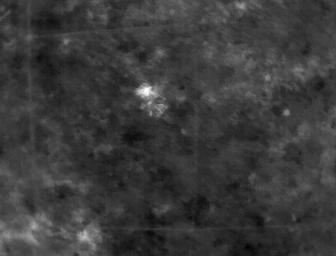landmine: (134, 83, 153, 100)
